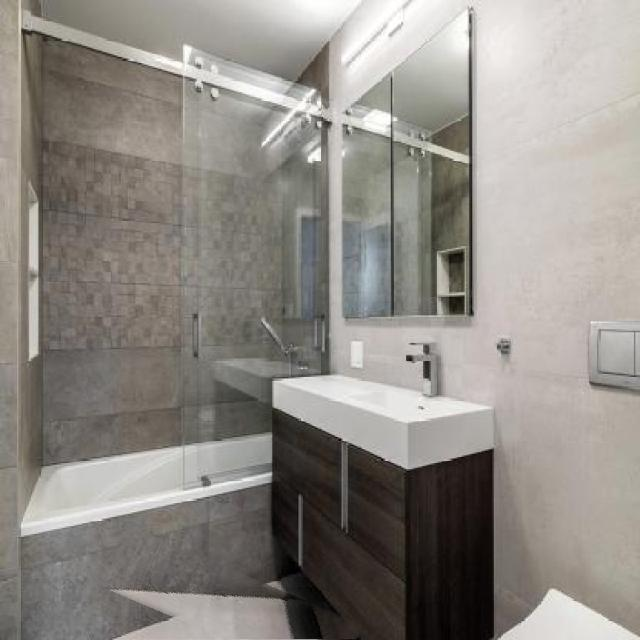floor: (102, 588, 324, 640)
